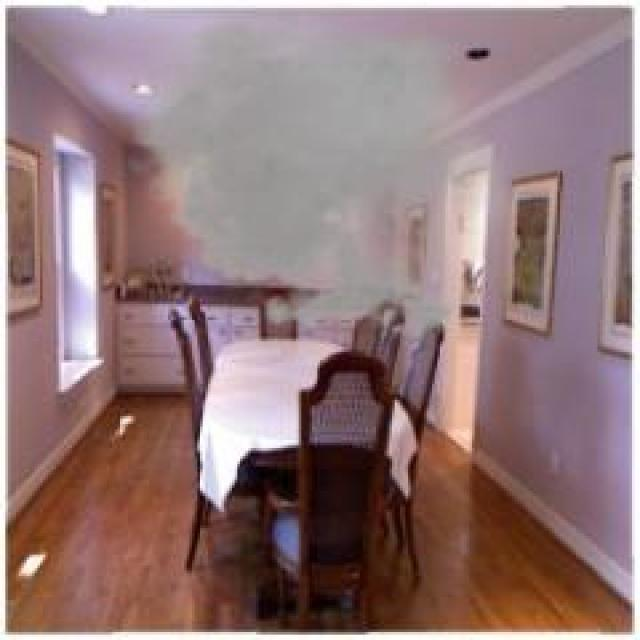Smoke: (140, 22, 475, 360)
